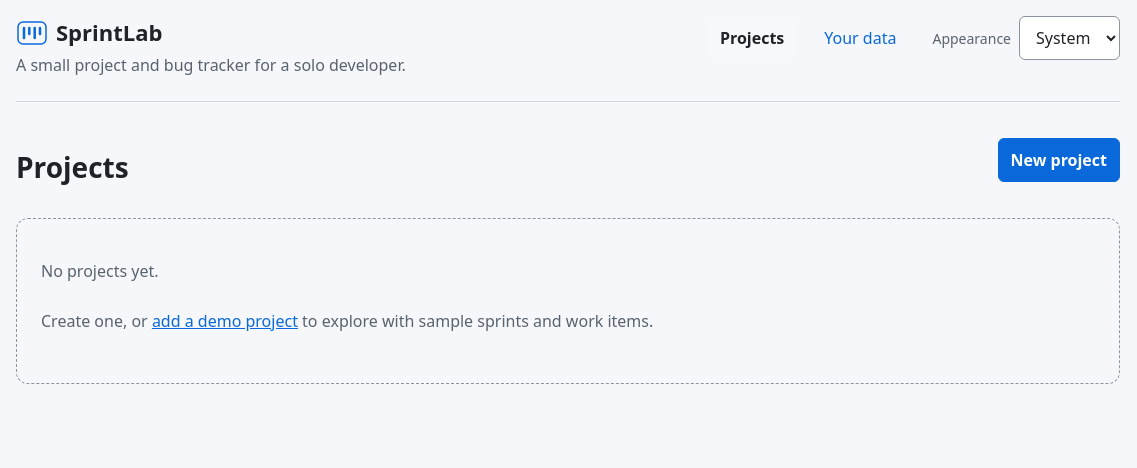
it: Demo data › can be added from the empty projects list
This screenshot has width=1137, height=468.
Click the button "add a demo project": (225, 321) x1=152 y1=299 x2=298 y2=343
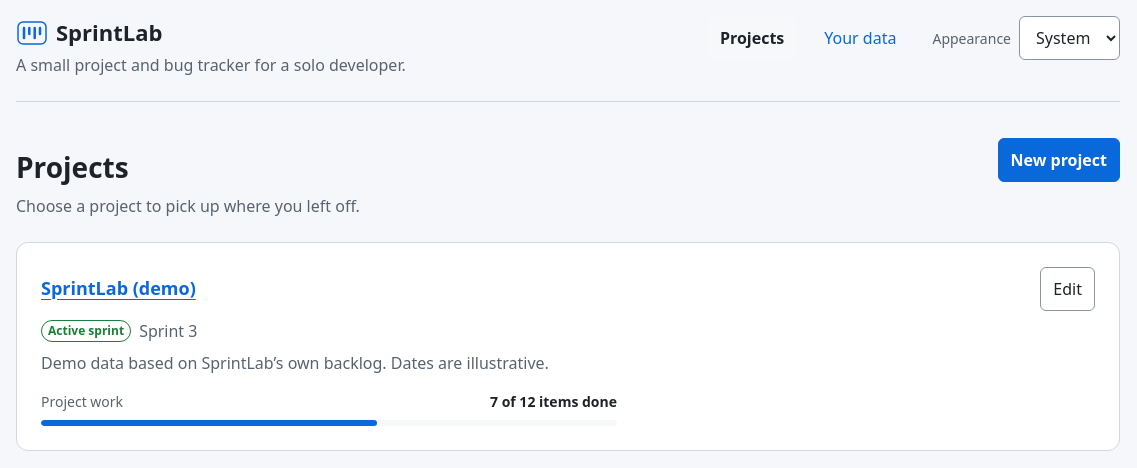
Expected: the link "SprintLab (demo)" is shown, x1=41 y1=276 x2=196 y2=300
